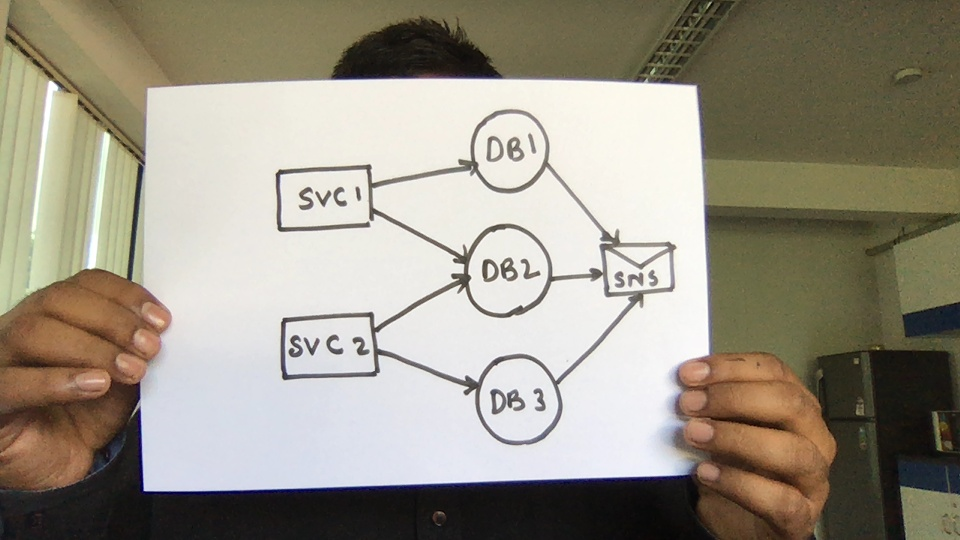db: (461, 222, 555, 322), (471, 348, 565, 448), (466, 102, 552, 197)
ec2: (270, 163, 385, 235), (270, 310, 385, 382)
sns: (592, 236, 688, 308)
